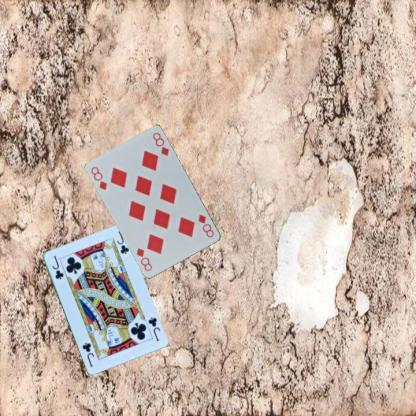8d: (196, 211, 216, 238), (88, 164, 108, 191)
Jc: (145, 314, 161, 343), (50, 254, 64, 281)
